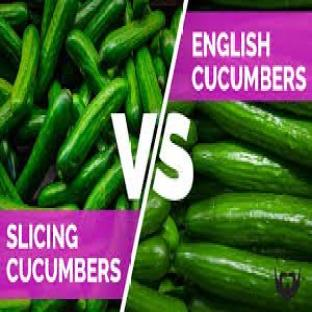Cucumber: (175, 244, 311, 311), (186, 194, 311, 254), (198, 103, 311, 167), (58, 78, 127, 180), (192, 142, 311, 196), (17, 90, 71, 200), (38, 147, 115, 206), (0, 26, 39, 137), (99, 12, 165, 68), (66, 30, 109, 94), (85, 160, 123, 209), (127, 281, 187, 311), (136, 47, 162, 115), (134, 236, 170, 284), (141, 190, 170, 237), (125, 58, 142, 133), (189, 294, 257, 311), (16, 108, 46, 144), (188, 175, 227, 202), (0, 17, 21, 66), (38, 182, 74, 207), (0, 162, 21, 202), (171, 119, 197, 150), (196, 117, 226, 142), (0, 140, 18, 181), (0, 2, 29, 25), (161, 216, 179, 252), (160, 28, 175, 68), (159, 277, 186, 298), (0, 51, 17, 83), (270, 103, 311, 116), (0, 195, 32, 211), (153, 56, 167, 90), (32, 299, 69, 311), (167, 101, 195, 116), (73, 93, 86, 124), (0, 299, 31, 311), (0, 78, 12, 105), (48, 80, 62, 103), (171, 6, 182, 35), (149, 30, 161, 55), (78, 82, 91, 105), (85, 299, 108, 311), (116, 194, 130, 211)
